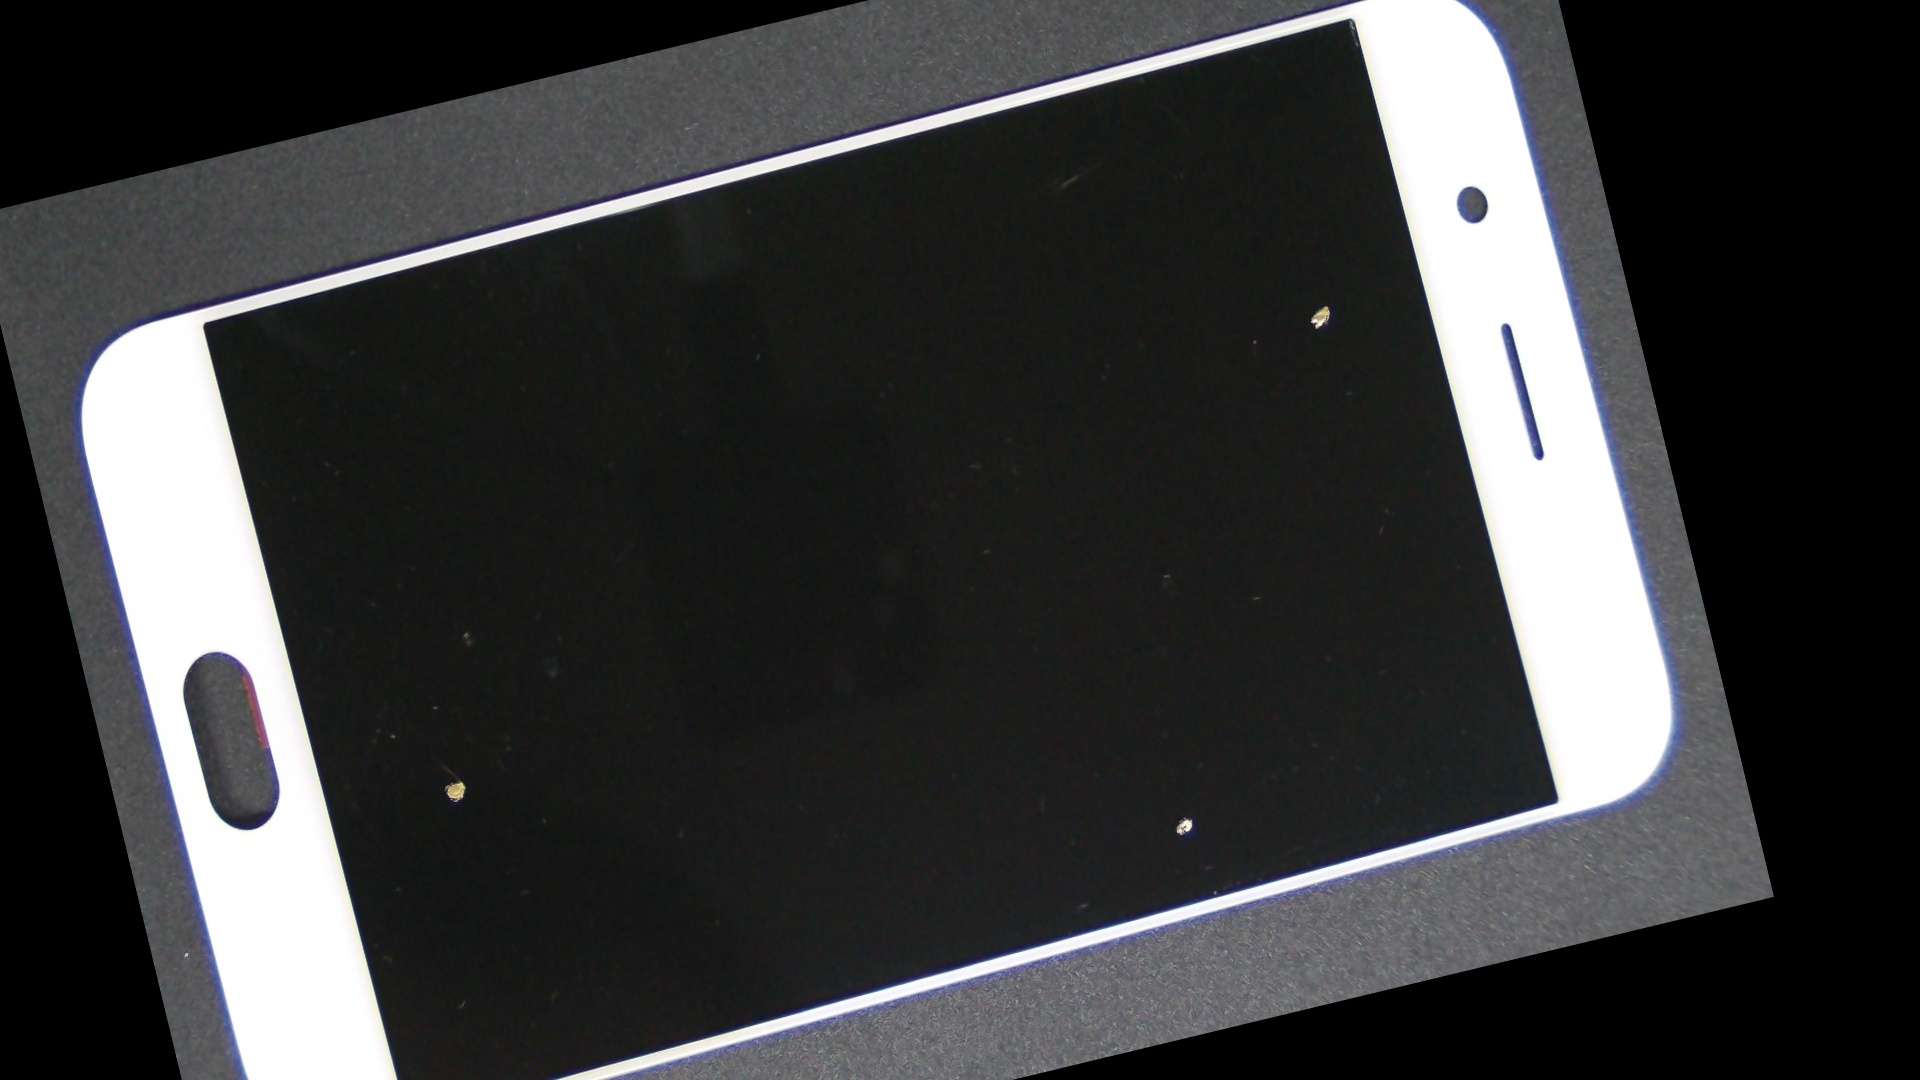oil: (580, 273, 1738, 1080), (651, 40, 1663, 653), (211, 421, 684, 1080)
